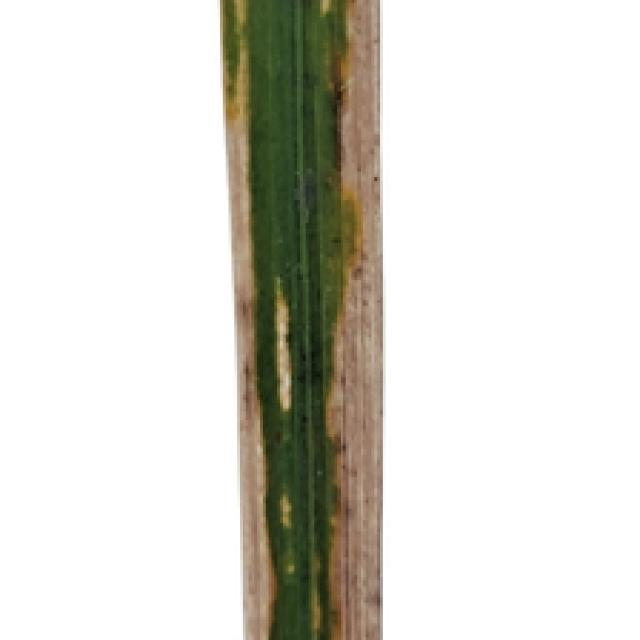Rice___Bacterial_Leaf_Blight: (219, 0, 385, 637)
